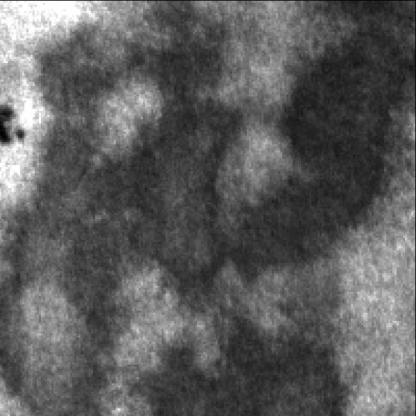patches: (44, 0, 233, 298), (239, 0, 416, 289), (150, 308, 360, 412)
